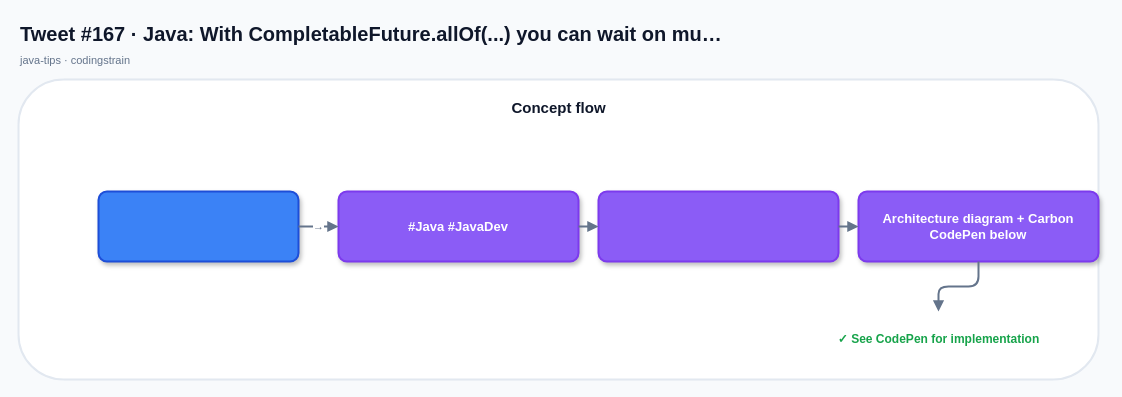
This 1122x397 diagram has some shape labels left out. The centre of each missing label's shape, as x and y in pixels:
Problem / context: (199,227)
Runnable sample: `java-tips`: (719,227)
